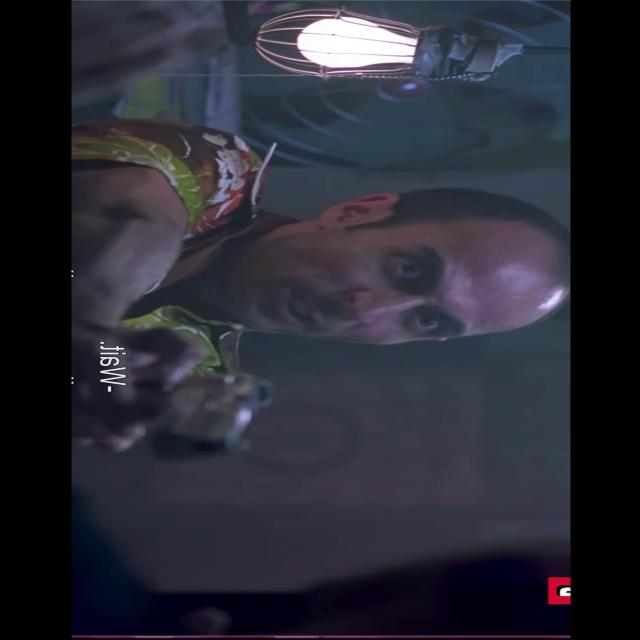weapons: (124, 349, 304, 464)
